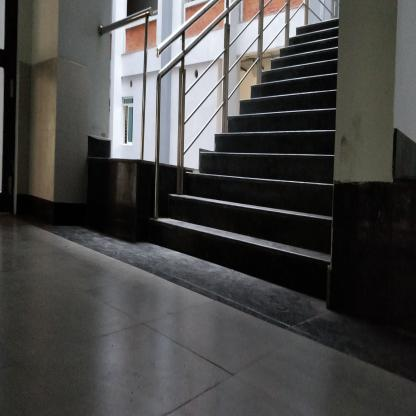stairs: (225, 120, 329, 306)
